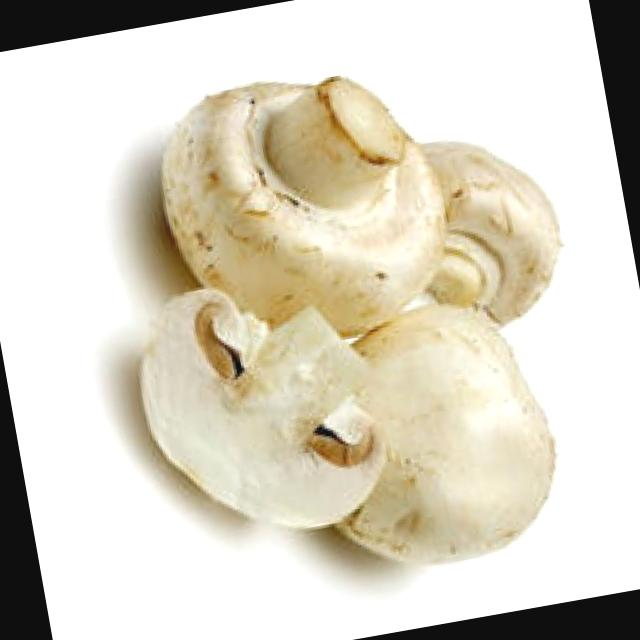Agaricus bisporus: (146, 54, 459, 348), (122, 256, 398, 572), (304, 281, 572, 606), (398, 120, 574, 344)
